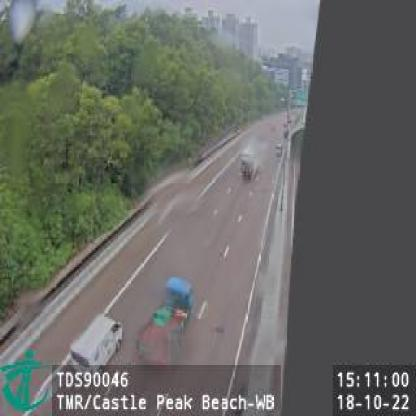Truck: (136, 277, 197, 365), (65, 313, 124, 369), (239, 144, 265, 182)
